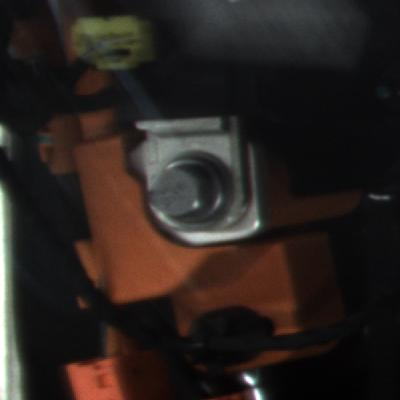nut_b: (150, 140, 238, 233)
